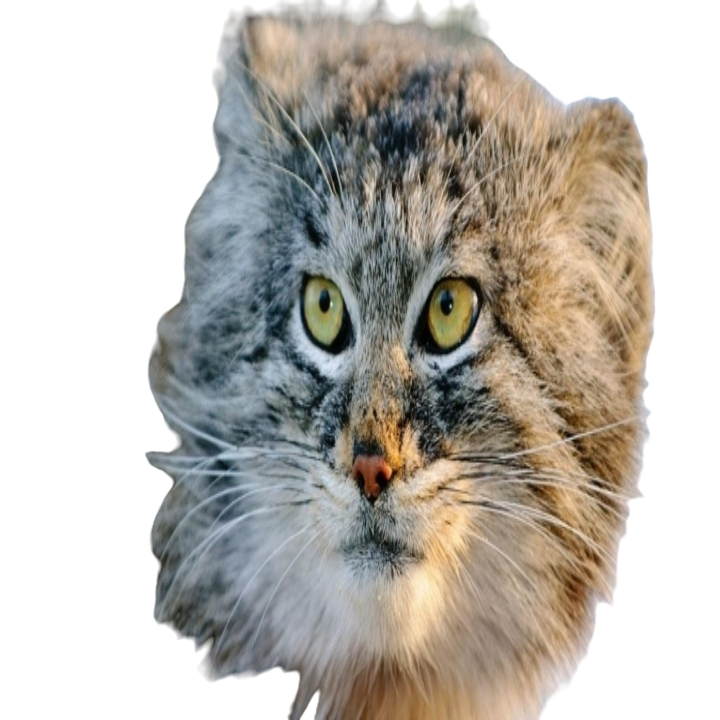Cat: (133, 13, 659, 719)
